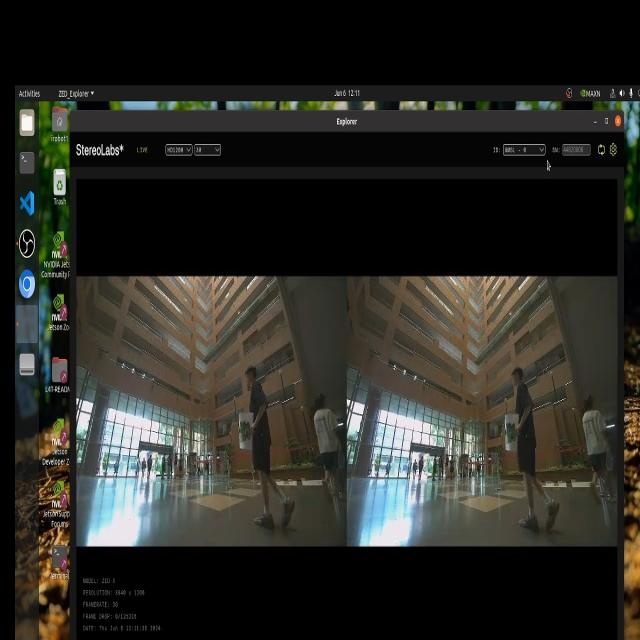green: (239, 412, 254, 450), (504, 415, 524, 443)
